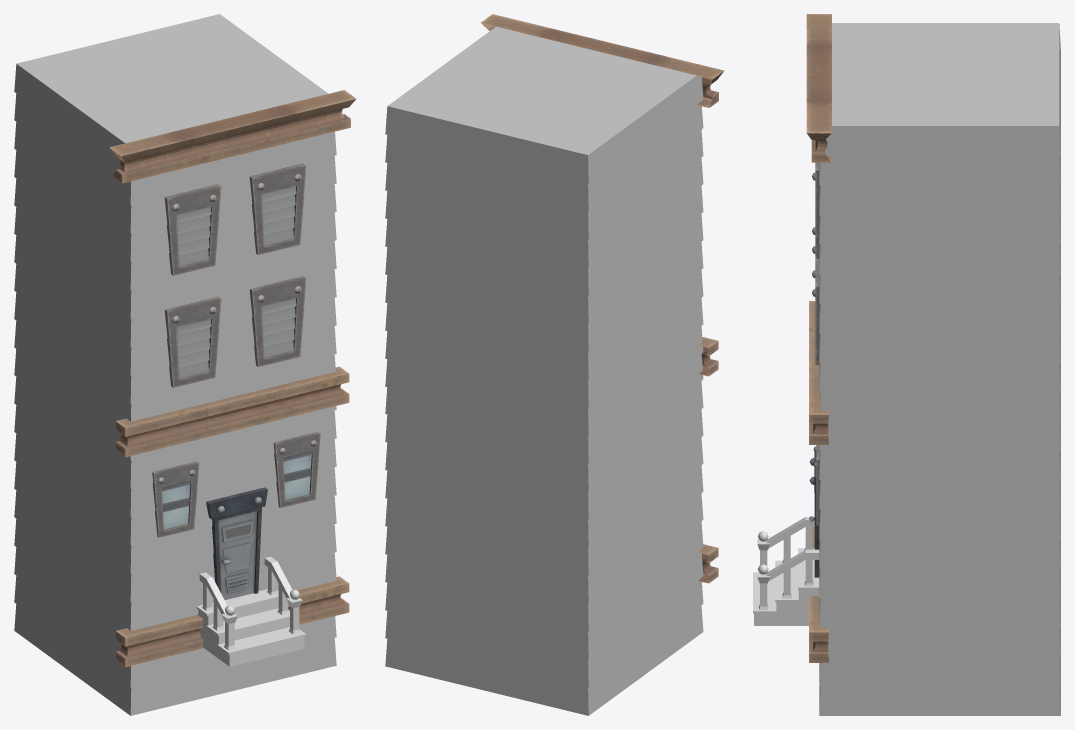
Rendered from Ev_Alleybuilding_5.fbx.
The picture shows the model from 3 angles, left to right: view 1: azimuth 30°, elevation 25°; view 2: azimuth 150°, elevation 25°; view 3: azimuth 270°, elevation 25°; orthographic projection. The views are drawn at different scales.
Parts seen in each view (by area): view 1: Box896, Box902, P_Frame_105, P_Frame_104, P_Door_009, stair7, P_Frame_106, P_Window_208, P_Window_209, P_Window_093, P_Window_092, P_Window_195 (+3 smaller); view 2: Box896, Box902, P_Frame_105, P_Frame_104, P_Frame_106; view 3: Box896, Box902, P_Frame_105, stair7, P_Frame_104, banister12, banister11, P_Frame_106, P_Window_092, P_Door_009.
Part boxes in pixels (x1,y1,x2,y2): Box896: (14,14,336,421); Box902: (14,349,336,715); P_Frame_105: (109,90,356,183); P_Frame_104: (115,366,349,457); P_Door_009: (206,487,267,599); stair7: (196,589,306,666); P_Frame_106: (115,576,349,666); P_Window_208: (249,163,306,254); P_Window_209: (164,184,221,275); P_Window_093: (164,296,221,387); P_Window_092: (249,275,306,367); P_Window_195: (273,431,320,508); Box896: (385,26,703,436); Box902: (385,354,703,715); P_Frame_105: (481,14,724,107); P_Frame_104: (699,337,718,376); P_Frame_106: (698,544,718,583); Box896: (819,23,1060,421); Box902: (819,421,1060,715); P_Frame_105: (806,14,831,162); stair7: (753,548,819,625); P_Frame_104: (809,301,828,444); banister12: (757,549,819,610); banister11: (757,517,814,565); P_Frame_106: (809,527,828,662); P_Window_092: (812,259,819,364); P_Door_009: (809,452,819,577).
Size of the model in its own units: 29.64 by 68.4 by 32.37.
